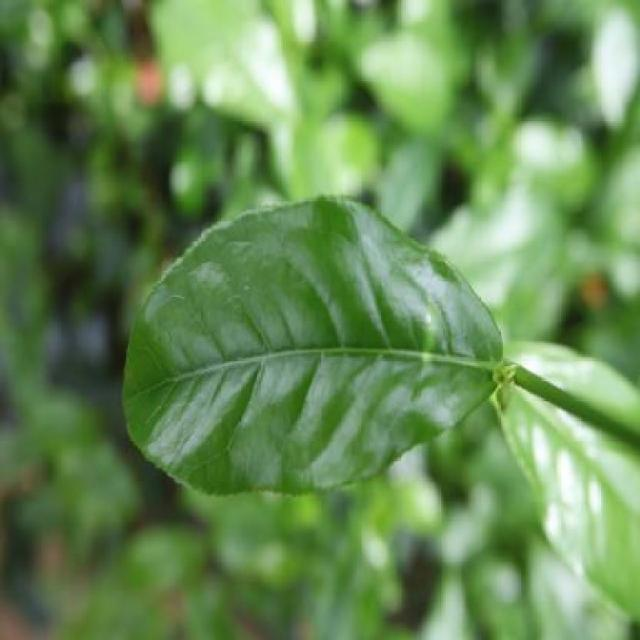Tea leaf: (118, 194, 510, 486)
